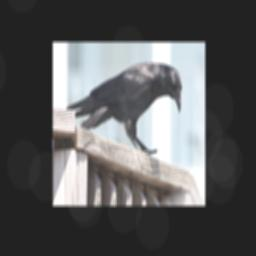Crow: (65, 61, 182, 155)
